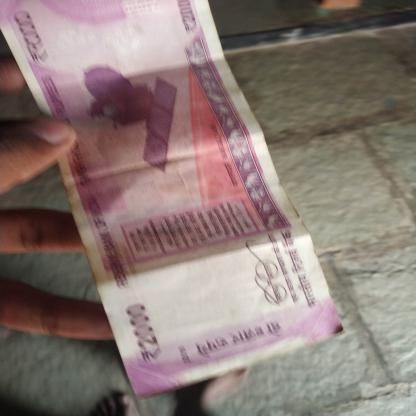New2000Back: (0, 1, 312, 368)
